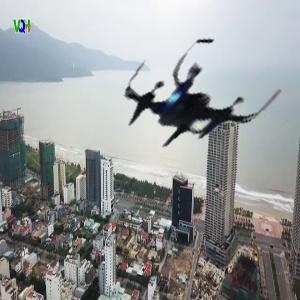drone: (128, 36, 262, 170)
